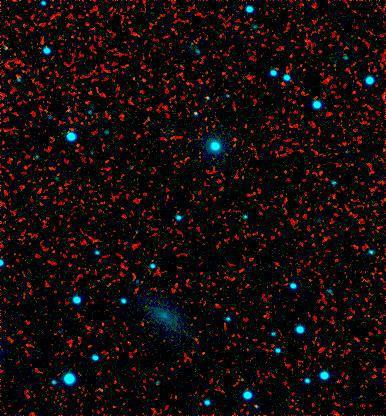star: (88, 308, 118, 338)
